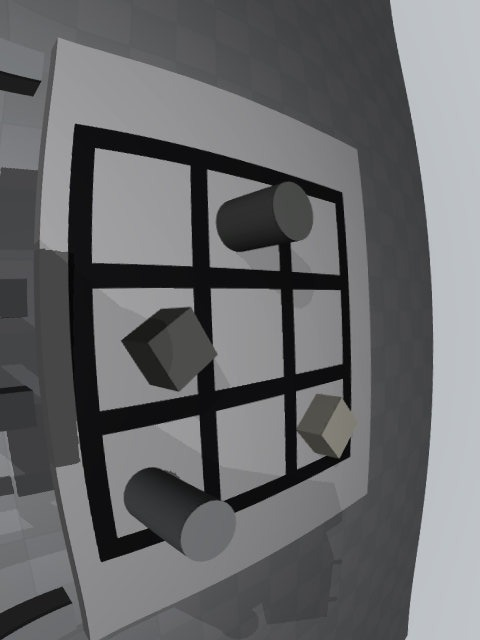can: (124, 467, 236, 562)
cube: (121, 307, 218, 391)
cylinder: (216, 182, 314, 252)
foam: (296, 394, 358, 459)
